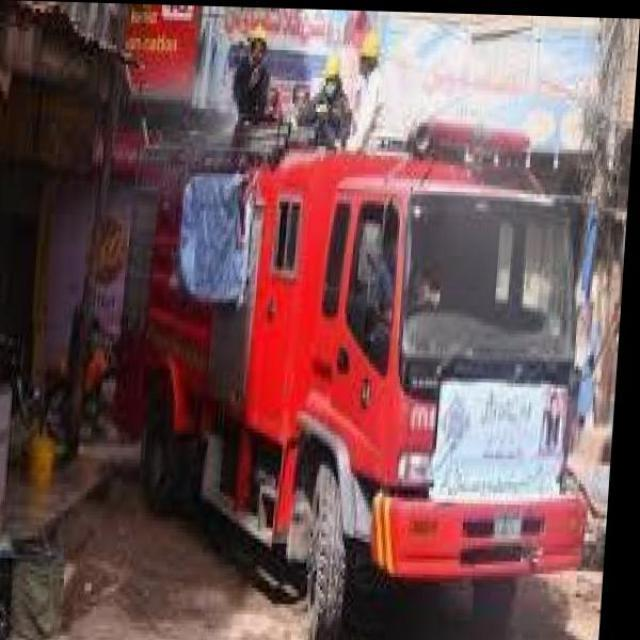emergency: (109, 117, 596, 636)
